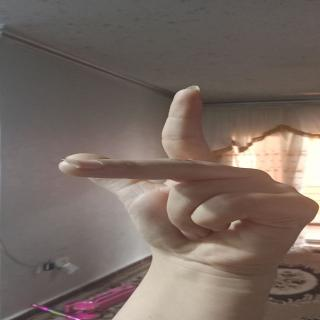DHAA: (40, 73, 320, 260)
